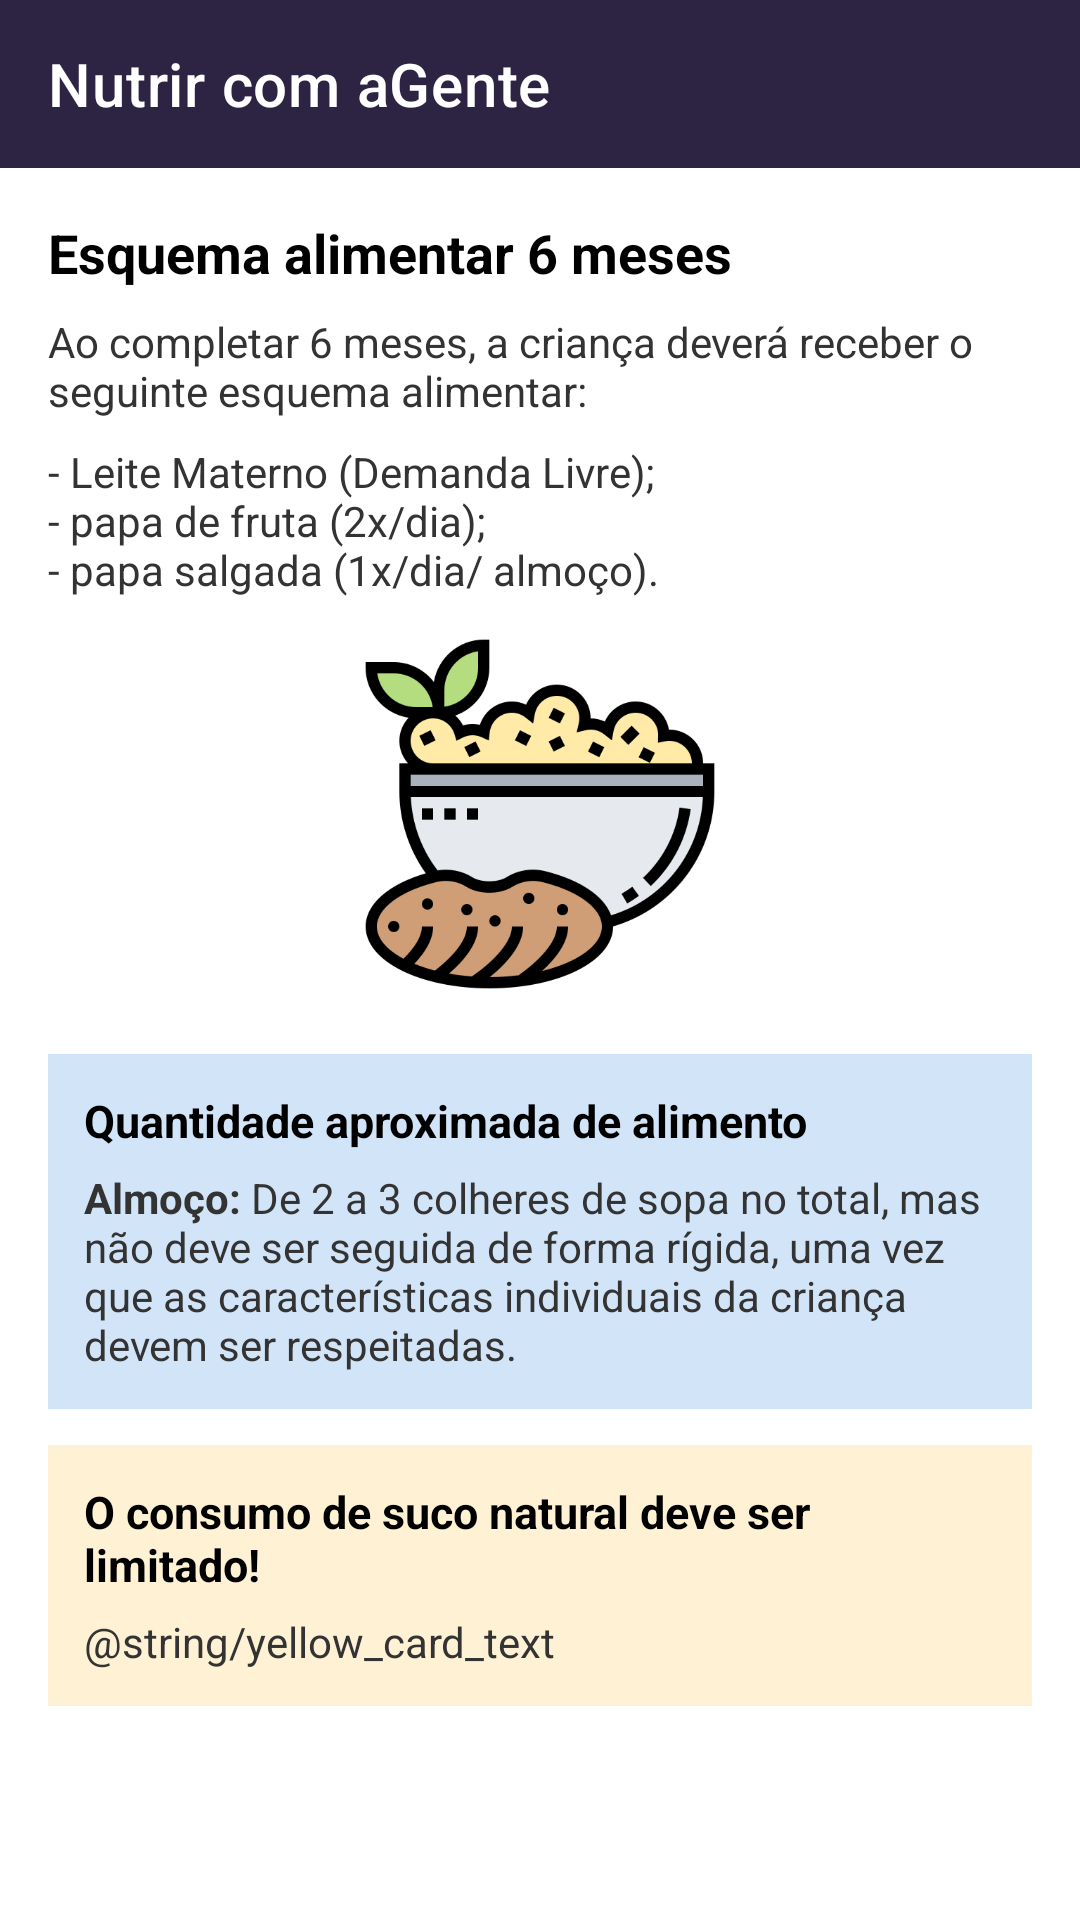

Icons on this 1080w x 1920h Android screen, each with its box as (x1, y1, x2, y2):
Imagem de comida: (365, 639, 715, 989)
